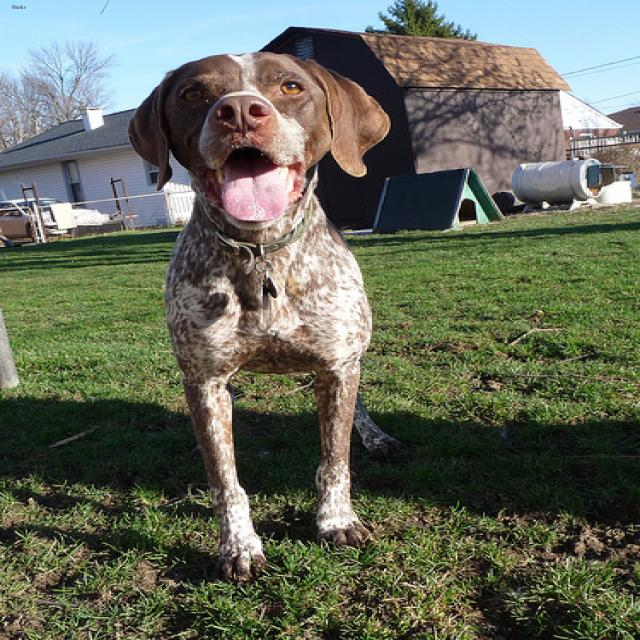dog-german_shorthaired: (119, 49, 410, 585)
